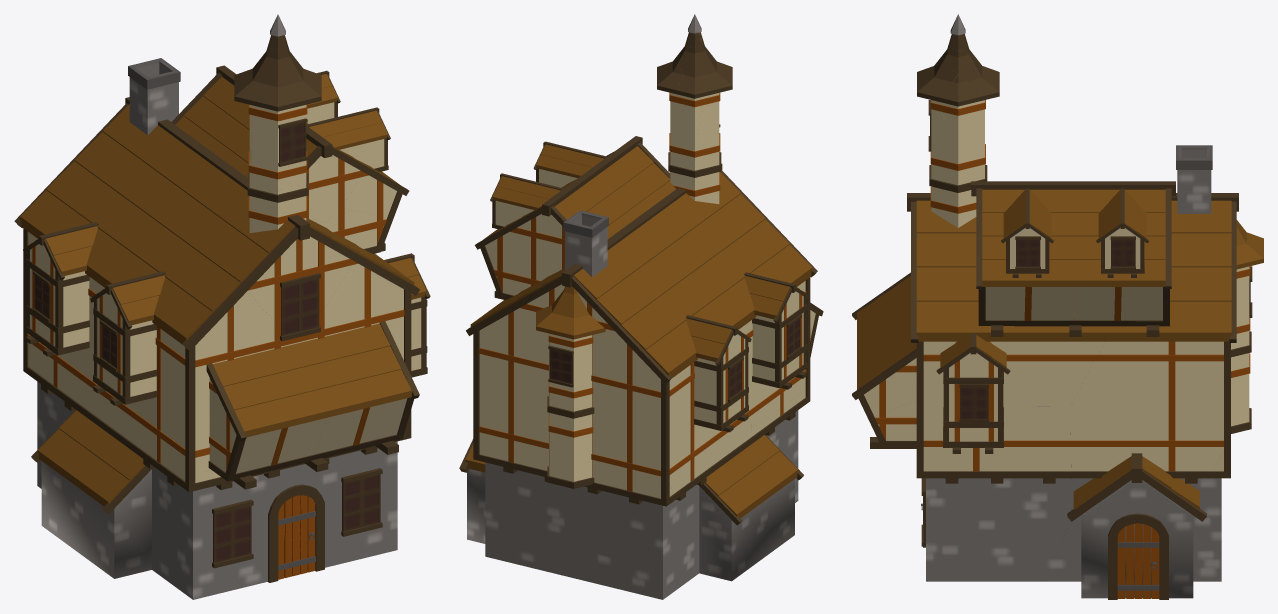
Rendered from ExplodedHouseCastle#7.fbx.
The picture shows the model from 3 angles, left to right: view 1: azimuth 30°, elevation 25°; view 2: azimuth 150°, elevation 25°; view 3: azimuth 270°, elevation 25°; orthographic projection. The views are drawn at different scales.
Parts seen in each view (by area): view 1: HouseCastel#7_cell.007, HouseCastel#7.178, HouseCastel#7.179, HouseCastel#7_cell.014, HouseCastel#7.020, HouseCastel#7.177, HouseCastel#7_cell.011, HouseCastel#7.180, HouseCastel#7.167, HouseCastel#7.258, HouseCastel#7.166, HouseCastel#7.165 (+56 smaller); view 2: HouseCastel#7_cell.008, HouseCastel#7_cell.004, HouseCastel#7_cell.013, HouseCastel#7.248, HouseCastel#7.178, HouseCastel#7.179, HouseCastel#7.020, HouseCastel#7_cell.016, HouseCastel#7.177, HouseCastel#7_cell.012, HouseCastel#7.180, HouseCastel#7.258 (+45 smaller); view 3: HouseCastel#7_cell.011, HouseCastel#7_cell.004, HouseCastel#7.176, HouseCastel#7.230, HouseCastel#7_cell.001, HouseCastel#7.175, HouseCastel#7.174, HouseCastel#7.258, HouseCastel#7.142, HouseCastel#7_cell.012, HouseCastel#7.107, HouseCastel#7.248 (+43 smaller).
Boxes of the visible parts, left/top/right/bottom form: HouseCastel#7_cell.007: left=122, top=427, right=327, bottom=599; HouseCastel#7.178: left=74, top=132, right=268, bottom=283; HouseCastel#7.179: left=46, top=161, right=240, bottom=313; HouseCastel#7_cell.014: left=92, top=278, right=294, bottom=473; HouseCastel#7.020: left=41, top=461, right=151, bottom=578; HouseCastel#7.177: left=102, top=104, right=295, bottom=253; HouseCastel#7_cell.011: left=274, top=441, right=397, bottom=566; HouseCastel#7.180: left=20, top=190, right=212, bottom=344; HouseCastel#7.167: left=234, top=369, right=411, bottom=437; HouseCastel#7.258: left=23, top=228, right=411, bottom=492; HouseCastel#7.166: left=223, top=346, right=401, bottom=410; HouseCastel#7.165: left=213, top=323, right=390, bottom=386; HouseCastel#7_cell.008: left=574, top=365, right=751, bottom=505; HouseCastel#7_cell.004: left=479, top=334, right=574, bottom=521; HouseCastel#7_cell.013: left=574, top=519, right=699, bottom=598; HouseCastel#7.248: left=536, top=286, right=605, bottom=481; HouseCastel#7.178: left=597, top=194, right=765, bottom=325; HouseCastel#7.179: left=621, top=219, right=789, bottom=350; HouseCastel#7.020: left=699, top=479, right=794, bottom=581; HouseCastel#7_cell.016: left=479, top=285, right=659, bottom=395; HouseCastel#7.177: left=573, top=172, right=740, bottom=299; HouseCastel#7_cell.012: left=485, top=503, right=574, bottom=578; HouseCastel#7.180: left=645, top=245, right=812, bottom=378; HouseCastel#7.258: left=473, top=277, right=810, bottom=506; HouseCastel#7_cell.011: left=923, top=406, right=1071, bottom=581; HouseCastel#7_cell.004: left=1070, top=341, right=1223, bottom=519; HouseCastel#7.176: left=916, top=301, right=1231, bottom=341; HouseCastel#7.230: left=1081, top=480, right=1193, bottom=598; HouseCastel#7_cell.001: left=923, top=341, right=1104, bottom=406; HouseCastel#7.175: left=916, top=267, right=1231, bottom=301; HouseCastel#7.174: left=916, top=233, right=1231, bottom=267; HouseCastel#7.258: left=916, top=341, right=1230, bottom=478; HouseCastel#7.142: left=982, top=259, right=1165, bottom=286; HouseCastel#7_cell.012: left=1043, top=519, right=1221, bottom=581; HouseCastel#7.107: left=982, top=189, right=1165, bottom=212; HouseCastel#7.248: left=1231, top=220, right=1263, bottom=426.
Size of the model in its own units: 1916 by 3397 by 2435.
